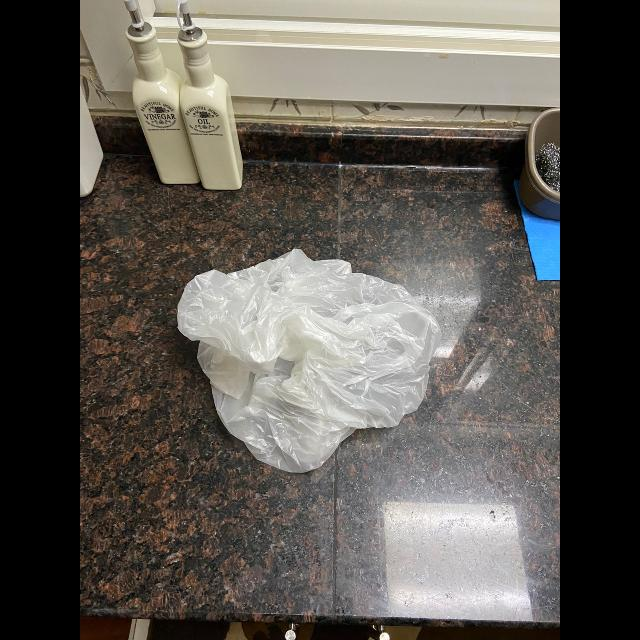plastic_bag: (176, 248, 444, 474)
